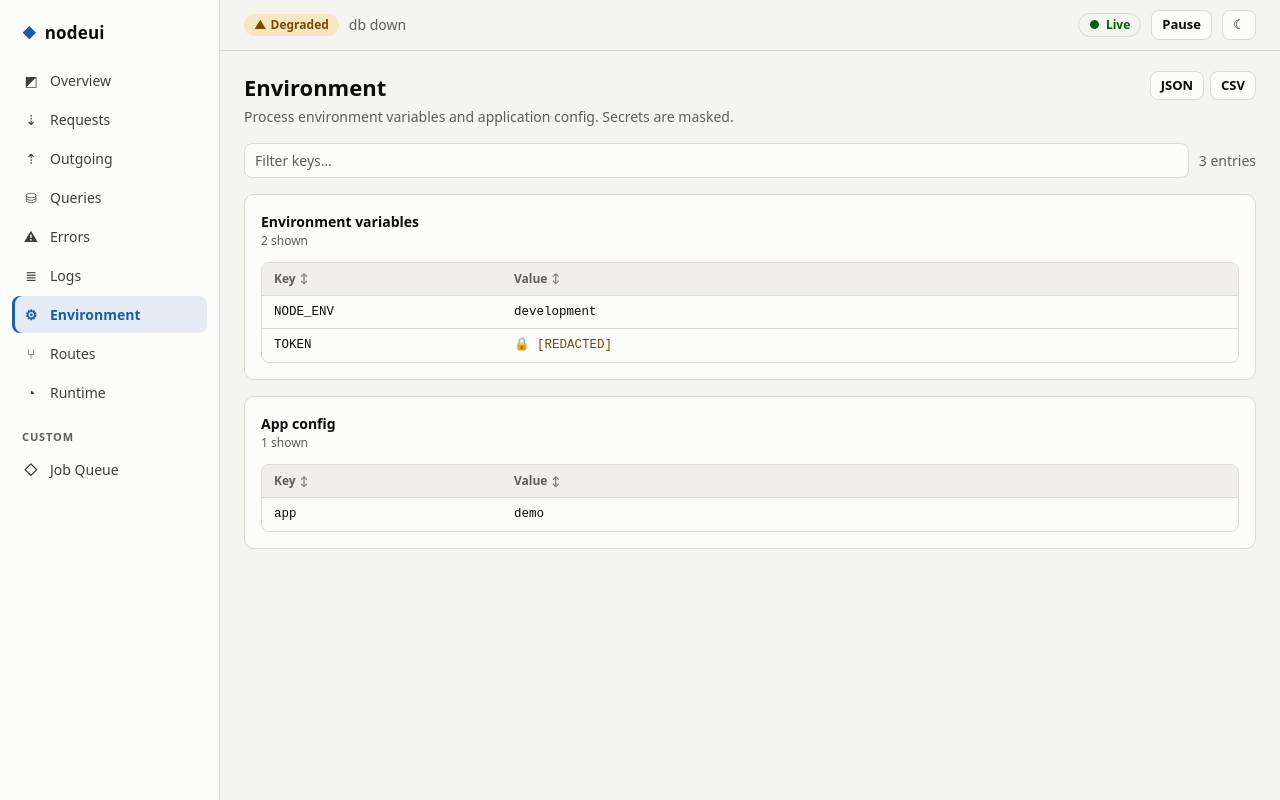
Test: Environment view › renders values, masks secrets and filters keys
This screenshot has width=1280, height=800.
Expected: the text "NODE_ENV" is shown, [262,296,502,329]
Expected: the text "development" is shown, [514,304,596,318]
Step 1. Type "node" into the search field labelled "Filter keys" → (716, 160), box [244,142,1189,178]
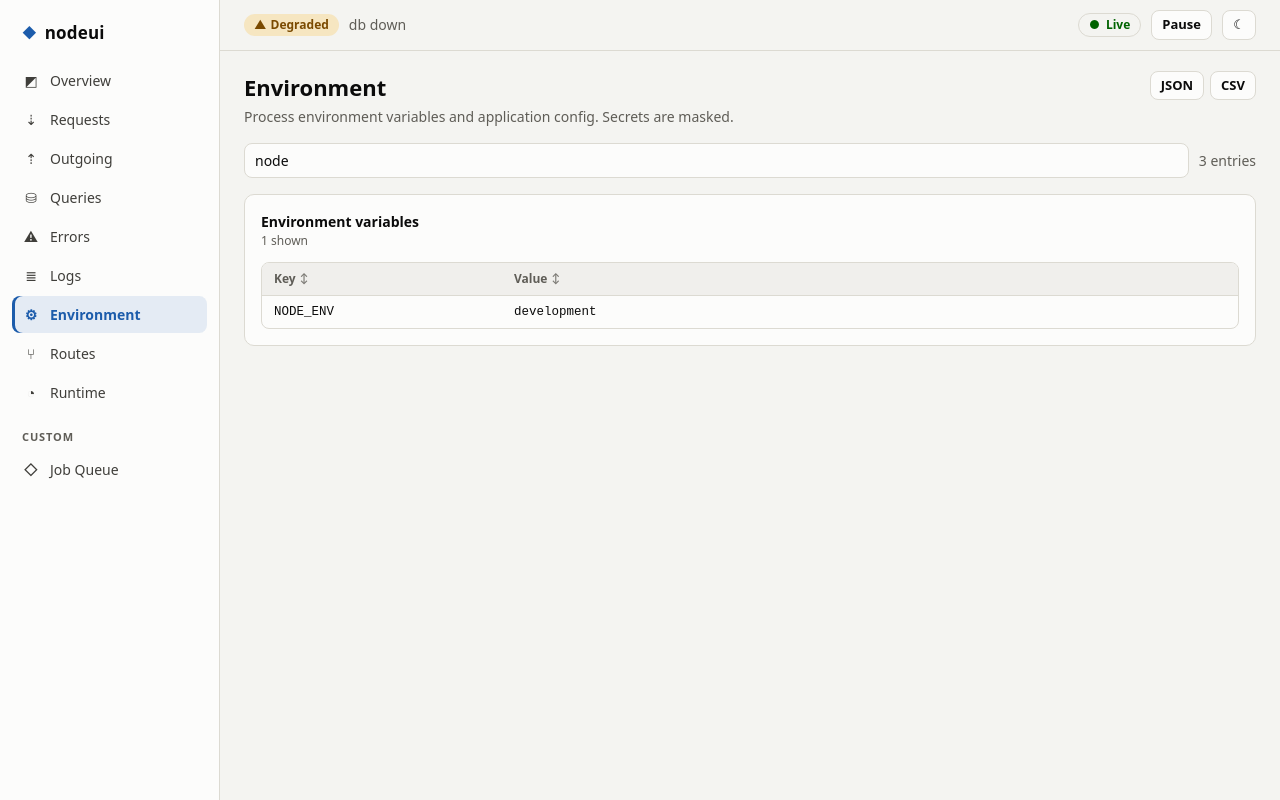
Expected: the text "NODE_ENV" is shown, [262,296,502,328]
Result: the text "TOKEN" is gone
Step 2. Replace the text in the search field named "Filter keys" with "zzz" → (716, 160), box [244,142,1189,178]
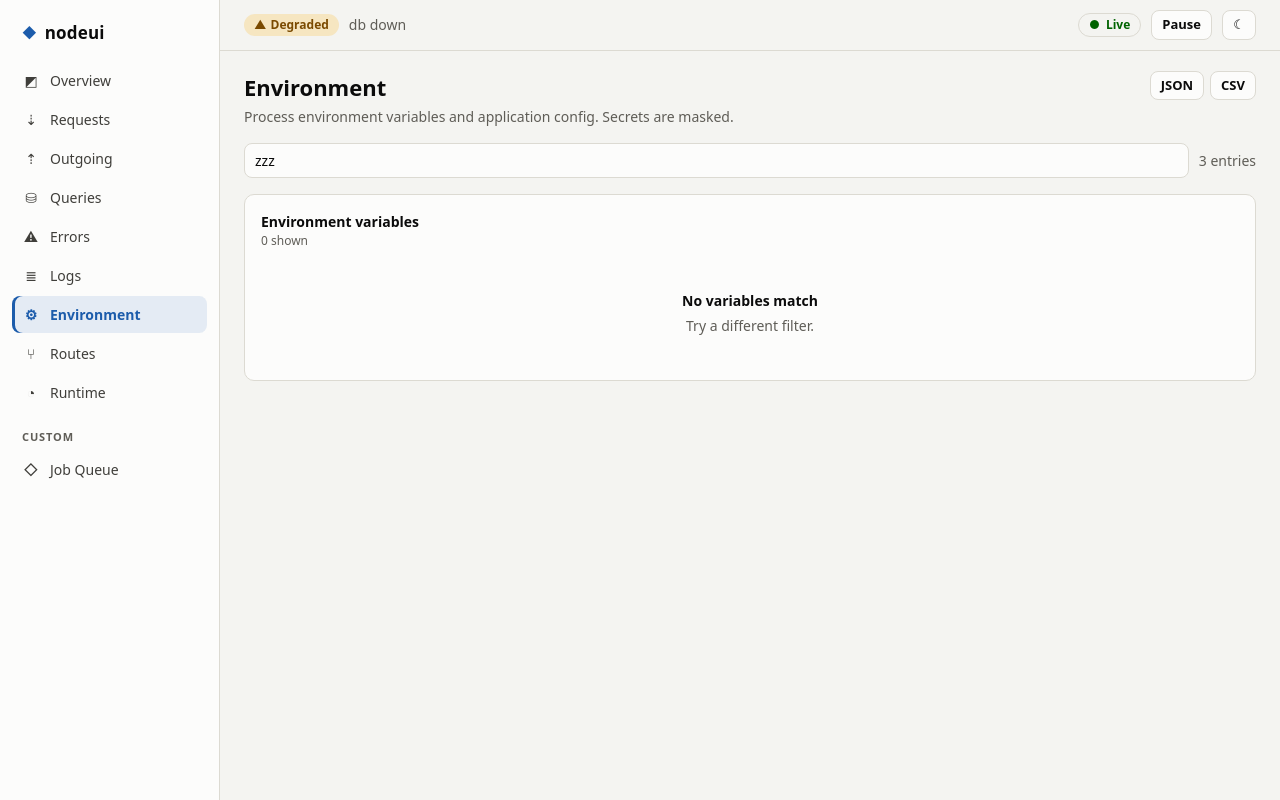
Result: the text "No variables match" is shown at [682,290,818,310]
